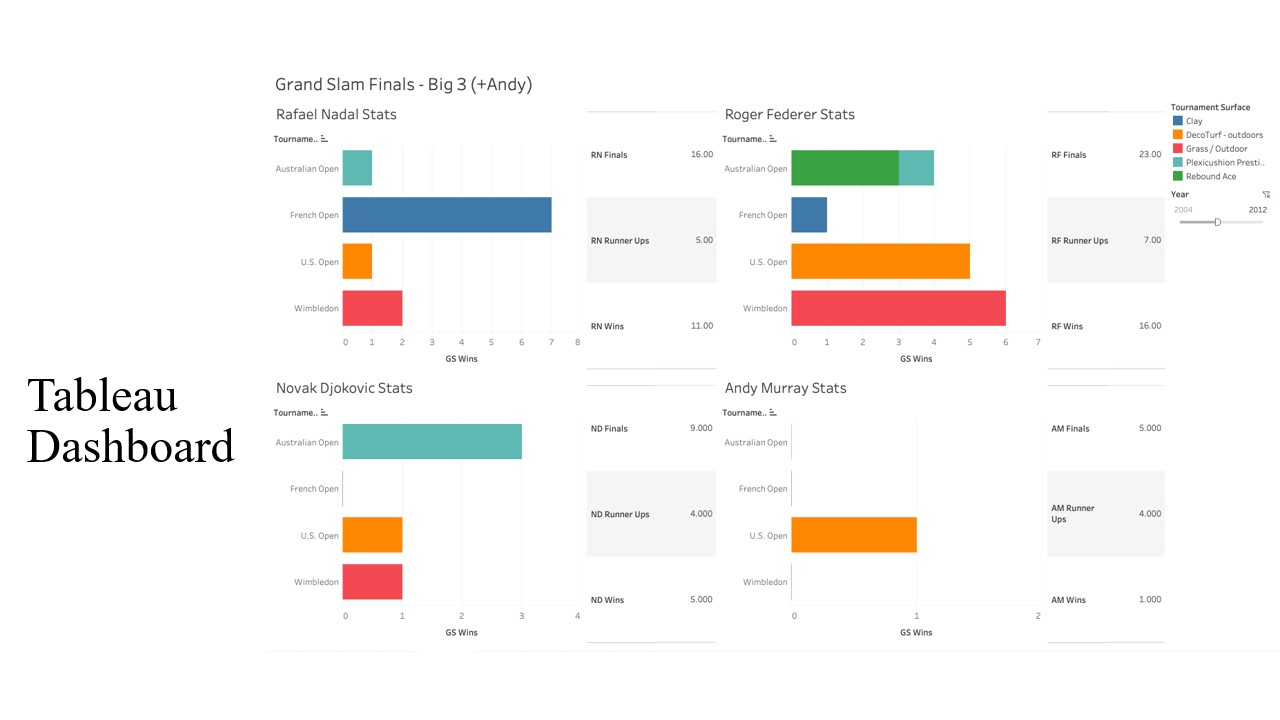

Layout of this report page (visuals, bound fields, positions):
{"tool":"tableau","page":{"name":"Big 3 (4?)","canvas":[1000,1000],"units":"permille","ordinal":0},"visuals":[{"type":"title","box":[6.4,11.4,987.3,60.1]},{"type":"worksheet","title":"Nadal","mark":"Automatic","rows":["TOURNAMENT"],"cols":["Calculation_4753760528025059337"],"box":[6.4,71.5,341.9,458.5]},{"type":"worksheet","title":"Nadal Stats","mark":"Automatic","box":[348.2,71.5,88.2,458.5]},{"type":"worksheet","title":"Federer","mark":"Automatic","rows":["TOURNAMENT"],"cols":["Calculation_5183783924144476160"],"box":[436.4,71.5,333.2,458.5]},{"type":"worksheet","title":"Federer Stats","mark":"Automatic","box":[769.6,71.5,96.9,458.5]},{"type":"legend","title":"Nadal","param":"[federated.1240pta05rl74912iq3ta1mwlsme].[none:TOURNAMENT_SURFACE:nk]","box":[866.6,71.5,127.1,180.2]},{"type":"filter","title":"Federer","param":"[federated.1240pta05rl74912iq3ta1mwlsme].[none:YEAR:qk]","box":[866.6,251.8,127.1,98.7]},{"type":"worksheet","title":"Djokovic","mark":"Automatic","rows":["TOURNAMENT"],"cols":["Djokovic Matches (copy)_5183783924145278980"],"box":[6.4,530,341.9,458.5]},{"type":"worksheet","title":"Djokovic Stats","mark":"Automatic","box":[348.3,530,88.2,458.5]},{"type":"worksheet","title":"Murray","mark":"Automatic","rows":["TOURNAMENT"],"cols":["Calculation_5183783924145008642"],"box":[436.4,530,333.1,458.5]},{"type":"worksheet","title":"Murray Stats","mark":"Automatic","box":[769.6,530,97,458.5]}]}

Visuals, with their boxes on the dashboard's canvas, which has no fixed pixel size, in thousandths of its width and height (x1, y1, x2, y2). These are canvas units, not pixel positions in the 1280x720 screenshot, which may show the page scaled, cropped or inside an application window:
title: 6:11:994:72
"Nadal" worksheet: 6:72:348:530
"Nadal Stats" worksheet: 348:72:436:530
"Federer" worksheet: 436:72:770:530
"Federer Stats" worksheet: 770:72:866:530
"Nadal" legend: 867:72:994:252
"Federer" filter: 867:252:994:350
"Djokovic" worksheet: 6:530:348:988
"Djokovic Stats" worksheet: 348:530:436:988
"Murray" worksheet: 436:530:770:988
"Murray Stats" worksheet: 770:530:867:988
